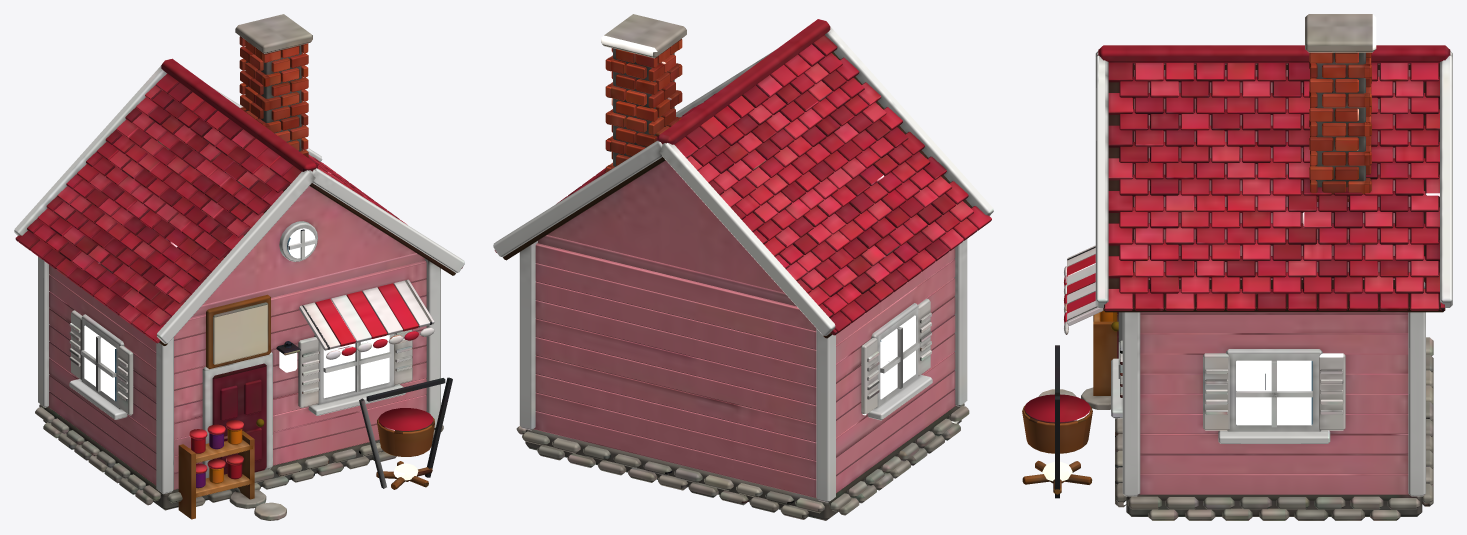
File: jam_maker.glb
The picture shows the model from 3 angles, left to right: view 1: azimuth 30°, elevation 25°; view 2: azimuth 150°, elevation 25°; view 3: azimuth 270°, elevation 25°; orthographic projection. The views are drawn at different scales.
Visible parts, largest first — view 1: jam_maker; view 2: jam_maker; view 3: jam_maker.
Boxes of the visible parts, bbox=[...] form: jam_maker: bbox=[14, 14, 464, 520]; jam_maker: bbox=[493, 14, 993, 520]; jam_maker: bbox=[1022, 14, 1452, 520].
Size of the model in its own units: 1.68 by 1.94 by 1.69.
1 material, 1 textured.
